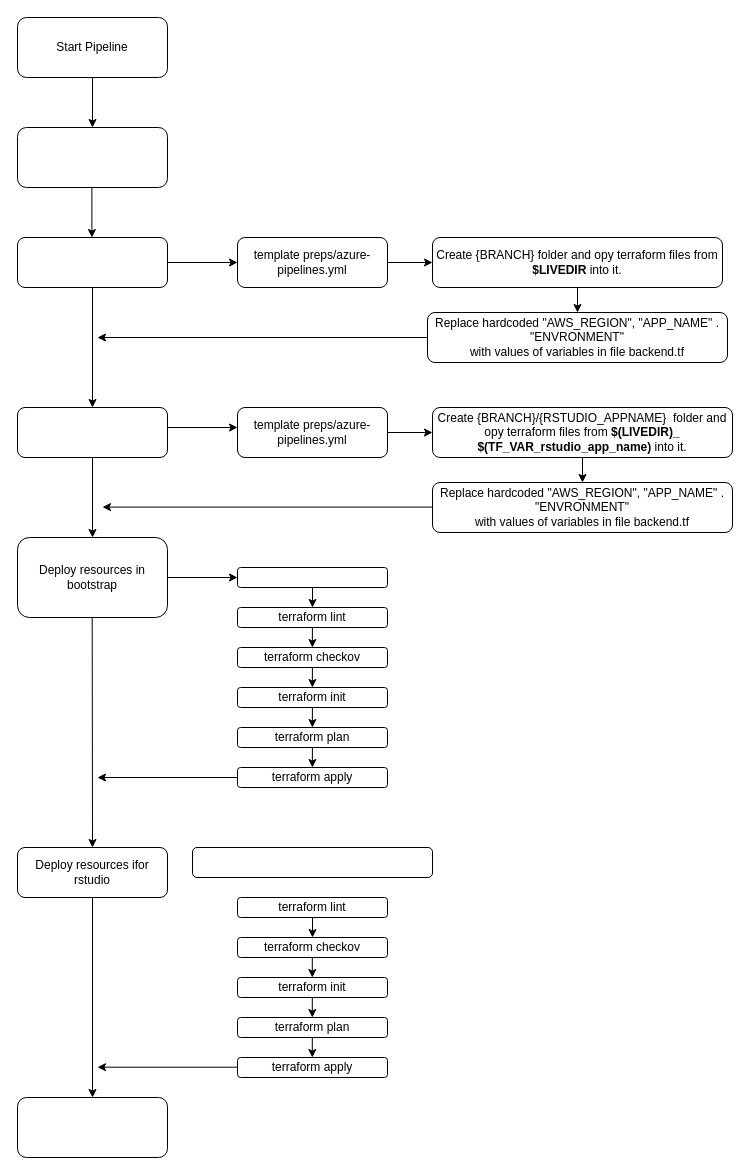
The diagram is 750 pixels wide and 1175 high, and some of its shapes have lost their labels. The shapes that lost their labels are listed below. From the top down, each one's centre as x and y in pixels, then its label:
At (x=92, y=157): "Checkout github environment branch ( dev/stg/prd)".
At (x=92, y=262): "prepare aws account bootstrap".
At (x=92, y=432): "prepare rstudio bootstrap".
At (x=312, y=577): "cd into {BRANCH}".
At (x=312, y=862): "cd into {BRANCH}/{RSTUDIO_APPNAME}".
At (x=92, y=1127): "END Pipeline".
